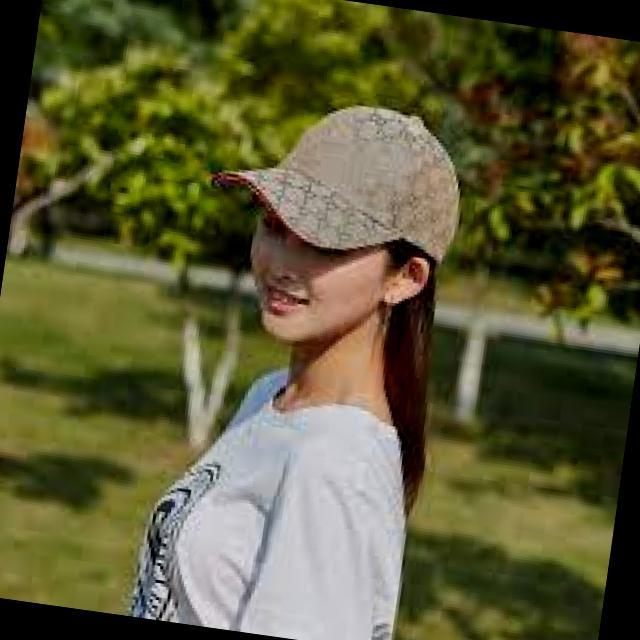cap: (193, 56, 477, 310)
